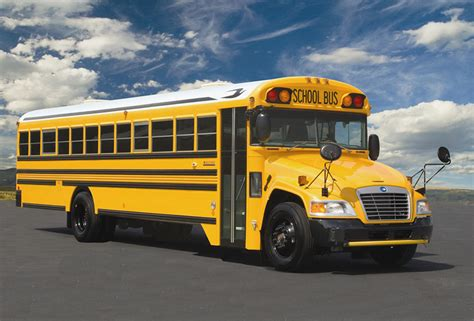bus: (15, 80, 433, 266)
